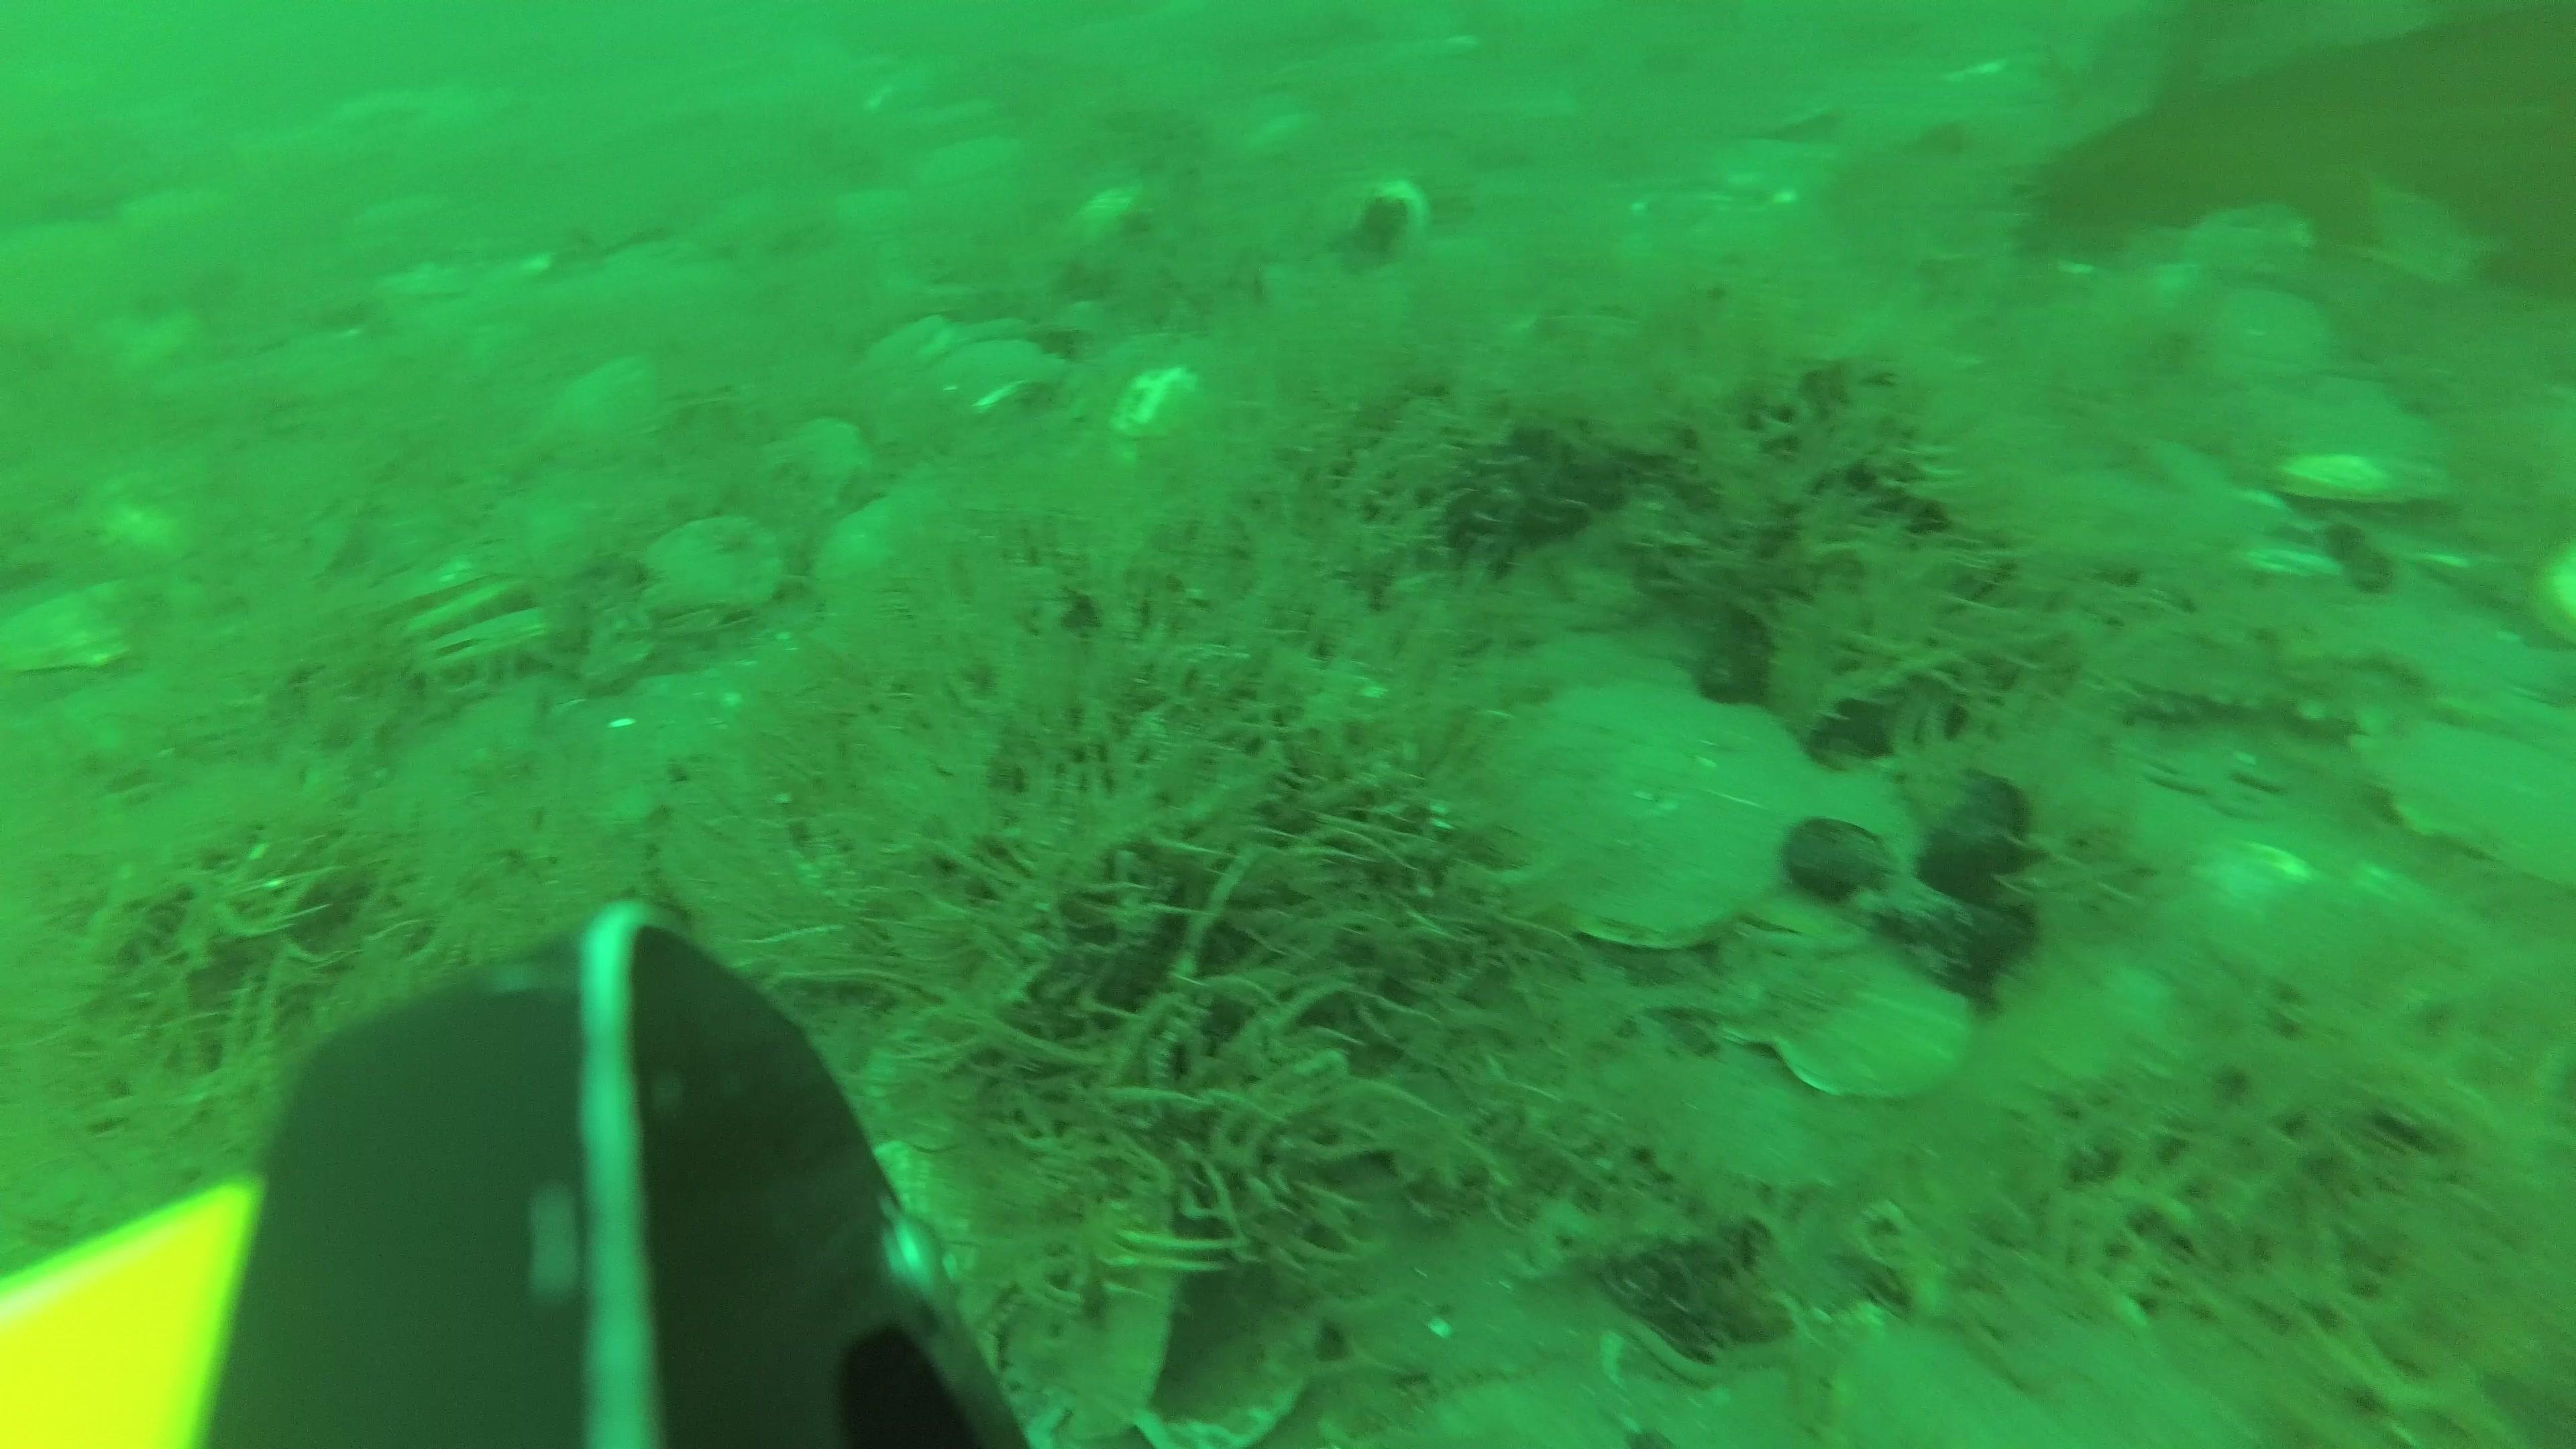holothurian: (2091, 619, 2399, 734)
scallop: (1483, 667, 1817, 947), (2357, 711, 2576, 893), (1741, 754, 1946, 936), (1764, 934, 1971, 1104), (1672, 1039, 1877, 1200), (1815, 1309, 2040, 1449), (2258, 372, 2443, 492), (648, 511, 798, 639), (9, 579, 209, 674), (2189, 287, 2337, 391), (540, 361, 679, 469), (757, 410, 879, 517), (2185, 189, 2304, 281), (419, 614, 563, 678), (398, 586, 525, 653), (384, 552, 492, 610)
